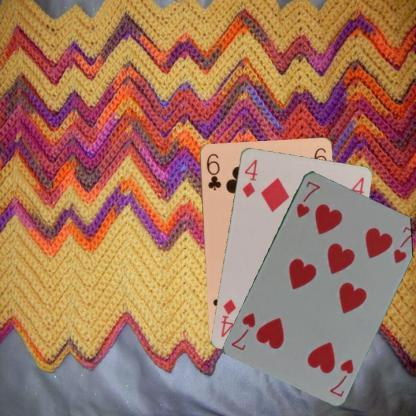4d: (239, 156, 259, 198)
6c: (204, 151, 222, 192)
7h: (326, 355, 355, 398), (294, 178, 322, 219)
